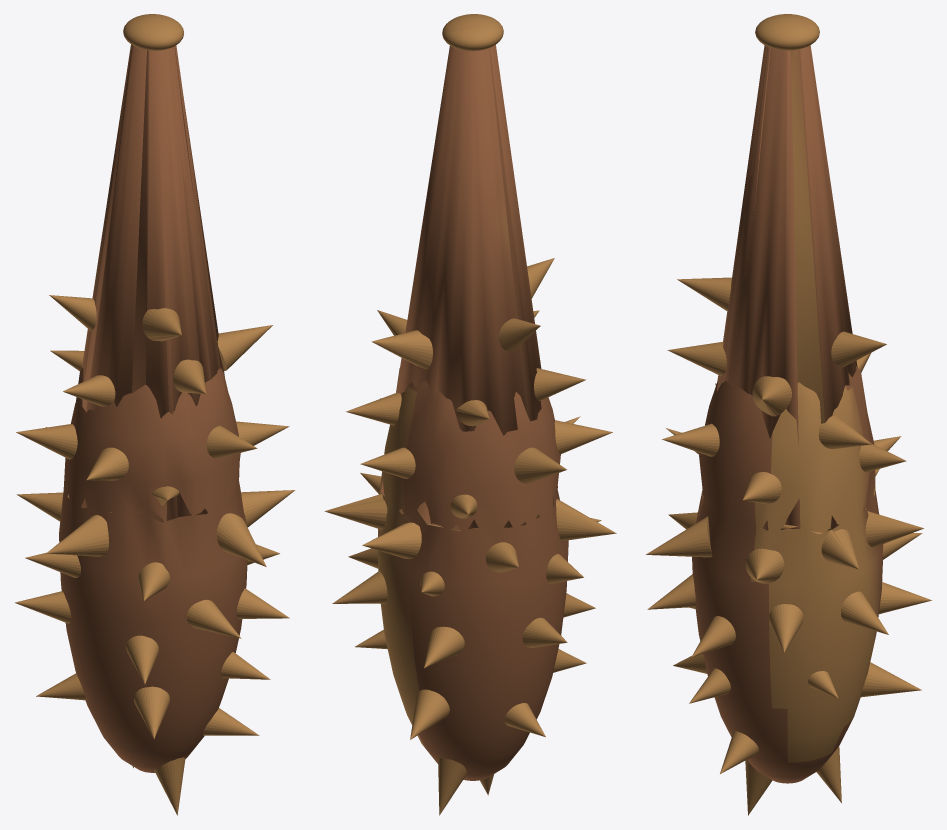
The model's file is konbou.obj.
The picture shows the model from 3 angles, left to right: view 1: azimuth 30°, elevation 25°; view 2: azimuth 150°, elevation 25°; view 3: azimuth 270°, elevation 25°; orthographic projection.
Visible parts, largest first — view 1: 円錐.043_円錐.044; view 2: 円錐.043_円錐.044; view 3: 円錐.043_円錐.044.
Boxes of the visible parts, x1,y1,x2,y2 form: 円錐.043_円錐.044: (15, 14, 295, 815); 円錐.043_円錐.044: (324, 14, 616, 815); 円錐.043_円錐.044: (646, 14, 931, 815).
Size of the model in its own units: 3.11 by 9.22 by 3.02.
Materials: 1 (1 with a texture image).
